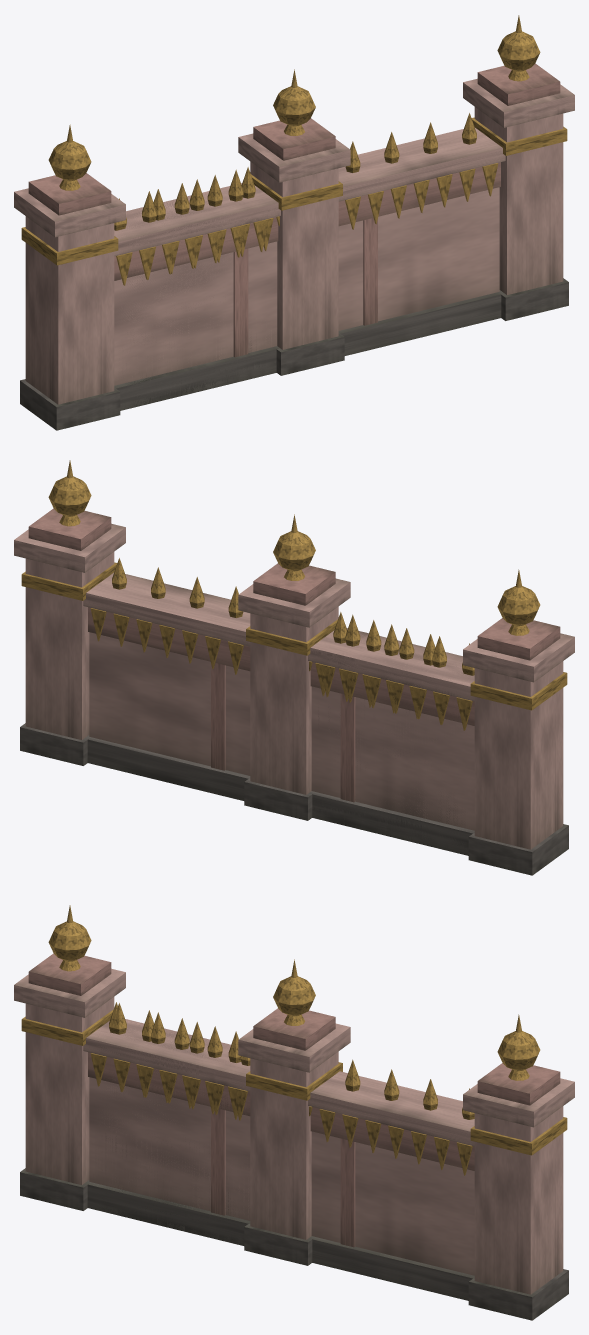
Rendered from TempleFence.fbx.
3 views of the same model, one above another, from view 1: azimuth 30°, elevation 25°; view 2: azimuth 150°, elevation 25°; view 3: azimuth 330°, elevation 25° (orthographic).
Visible parts, largest first — view 1: FenceSegment, FenceSegment_Half, FencePost; view 2: FenceSegment, FenceSegment_Half, FencePost; view 3: FenceSegment, FenceSegment_Half, FencePost.
Boxes of the visible parts, x1=… form: FenceSegment: x1=114, y1=15, x2=574, y2=410; FenceSegment_Half: x1=114, y1=69, x2=350, y2=410; FencePost: x1=14, y1=124, x2=125, y2=430; FenceSegment: x1=14, y1=460, x2=474, y2=855; FenceSegment_Half: x1=238, y1=514, x2=474, y2=855; FencePost: x1=463, y1=569, x2=574, y2=875; FenceSegment: x1=83, y1=1003, x2=574, y2=1320; FenceSegment_Half: x1=83, y1=959, x2=350, y2=1265; FencePost: x1=14, y1=905, x2=125, y2=1210.
Bounding box in the file's own units: 389 × 204 × 53.2.
1 material, 1 textured.
